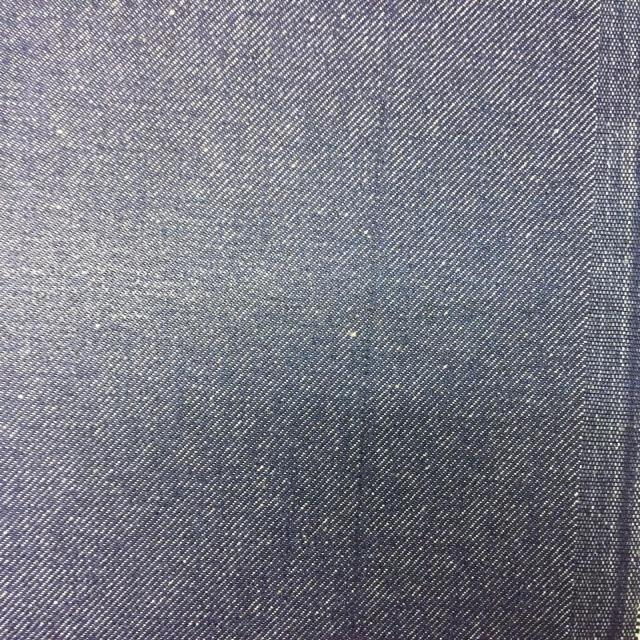Line: (348, 10, 402, 622)
